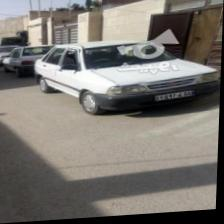plate: (157, 93, 195, 103)
